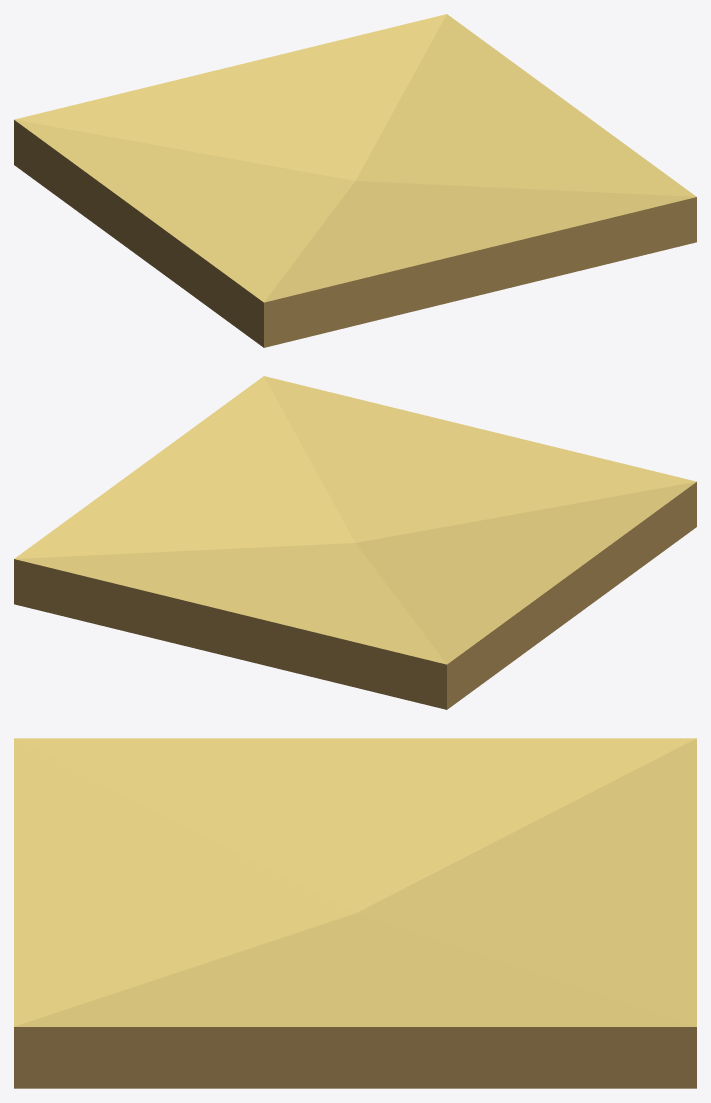
Rendered from Terrain_Modular_Tiles_Sand_Dirt_Divot_01.fbx.
The picture shows the model from 3 angles, top to bottom: view 1: azimuth 30°, elevation 25°; view 2: azimuth 150°, elevation 25°; view 3: azimuth 270°, elevation 25°; orthographic projection. The views are drawn at different scales.
Parts seen in each view (by area): view 1: Terrain_Modular_Tiles_Sand_Dirt_Divot_01; view 2: Terrain_Modular_Tiles_Sand_Dirt_Divot_01; view 3: Terrain_Modular_Tiles_Sand_Dirt_Divot_01.
Part boxes in pixels (left/top/right/bottom): Terrain_Modular_Tiles_Sand_Dirt_Divot_01: left=14, top=14, right=696, bottom=347; Terrain_Modular_Tiles_Sand_Dirt_Divot_01: left=14, top=376, right=696, bottom=709; Terrain_Modular_Tiles_Sand_Dirt_Divot_01: left=14, top=738, right=696, bottom=1088.
Bounding box in the file's own units: 3000 × 300 × 3000.
